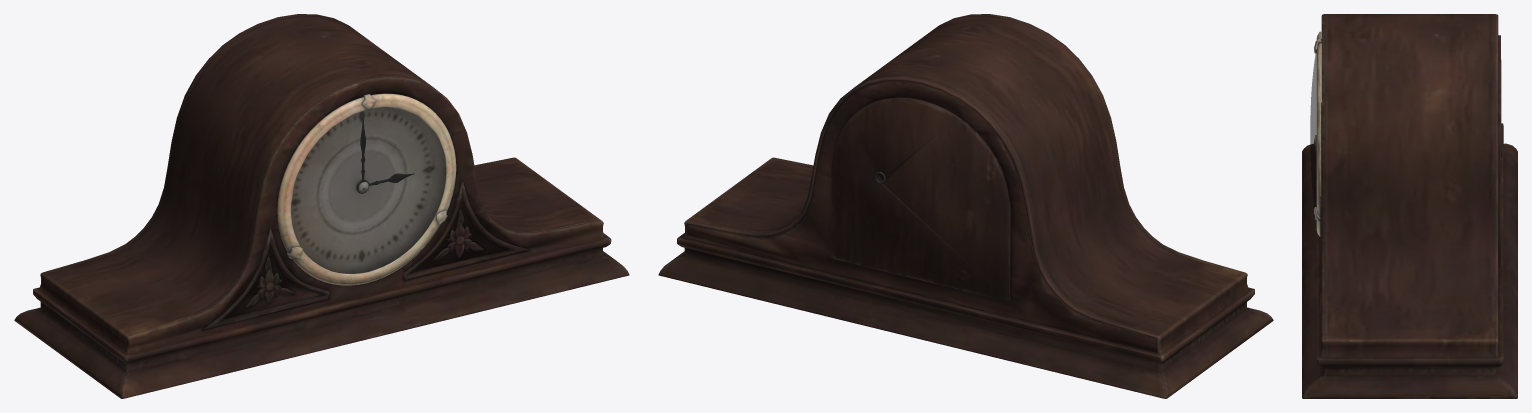
Rendered from mantel_clock_01.glb.
3 renders of one model, left to right at view 1: azimuth 30°, elevation 25°; view 2: azimuth 150°, elevation 25°; view 3: azimuth 270°, elevation 25°, orthographic.
Parts seen in each view (by area): view 1: mantel_clock_01, mantel_clock_01_glass; view 2: mantel_clock_01; view 3: mantel_clock_01, mantel_clock_01_glass.
Part boxes in pixels (left/top/right/bottom): mantel_clock_01: left=14, top=14, right=629, bottom=398; mantel_clock_01_glass: left=291, top=107, right=445, bottom=273; mantel_clock_01: left=658, top=14, right=1273, bottom=398; mantel_clock_01: left=1302, top=14, right=1517, bottom=398; mantel_clock_01_glass: left=1310, top=53, right=1316, bottom=206.
Bounding box in the file's own units: 0.3423 × 0.1604 × 0.126.
2 materials, 2 textured.
